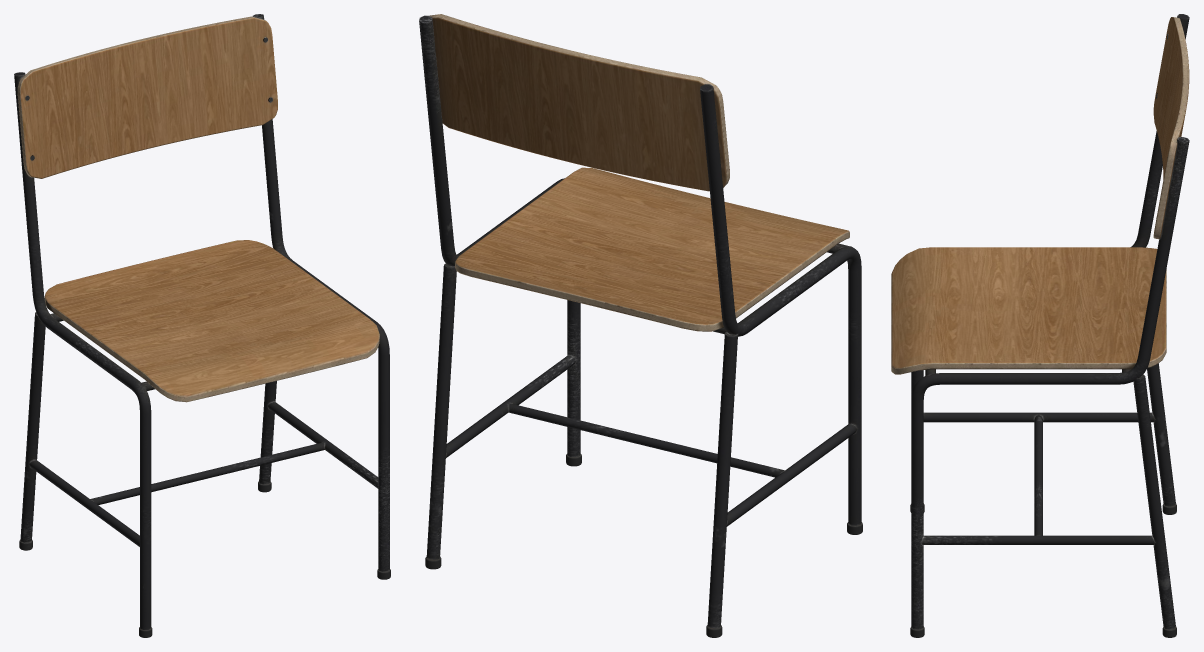
The model's file is StoreChair.fbx.
3 renders of one model, left to right at view 1: azimuth 30°, elevation 25°; view 2: azimuth 150°, elevation 25°; view 3: azimuth 270°, elevation 25°, orthographic. The views are drawn at different scales.
Visible parts, largest first — view 1: StoreChair; view 2: StoreChair; view 3: StoreChair.
Boxes of the visible parts, bbox=[...] form: StoreChair: bbox=[14, 14, 390, 637]; StoreChair: bbox=[419, 14, 862, 637]; StoreChair: bbox=[891, 14, 1189, 637].
Bounding box in the file's own units: 0.47 × 0.8414 × 0.4552.
